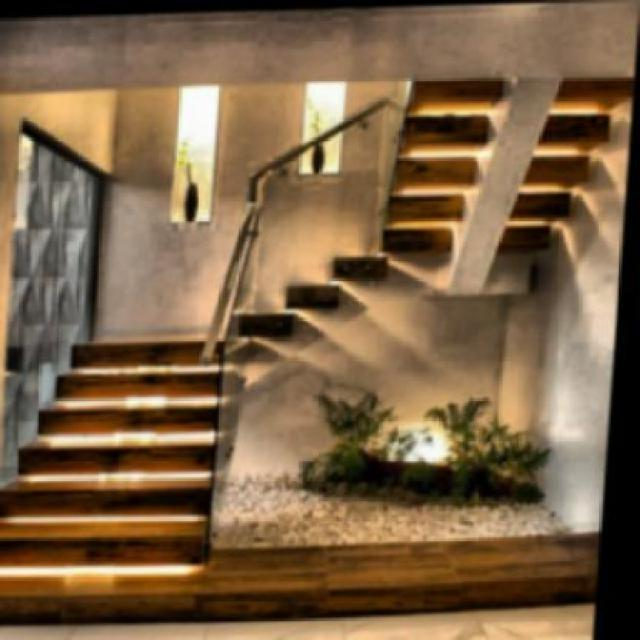stair: (1, 245, 257, 568)
